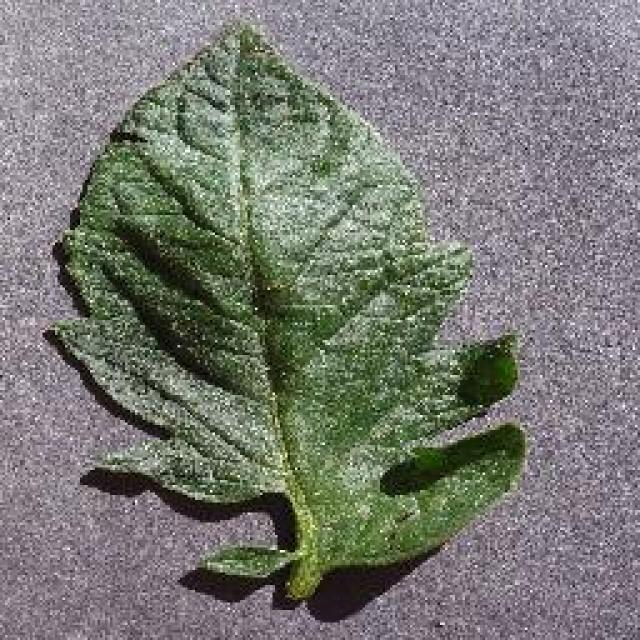Tomato___healthy: (40, 11, 533, 615)
